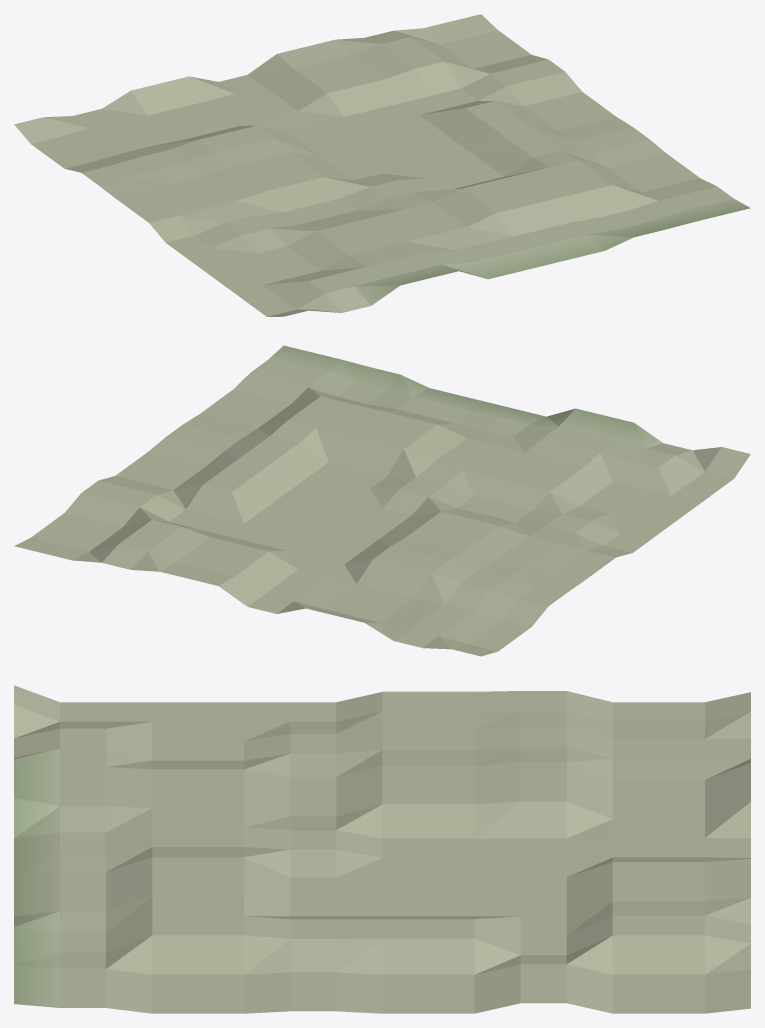
The picture shows the model from 3 angles, top to bottom: view 1: azimuth 30°, elevation 25°; view 2: azimuth 150°, elevation 25°; view 3: azimuth 270°, elevation 25°; orthographic projection. The views are drawn at different scales.
Bounding box in the file's own units: 32 × 1 × 32.
